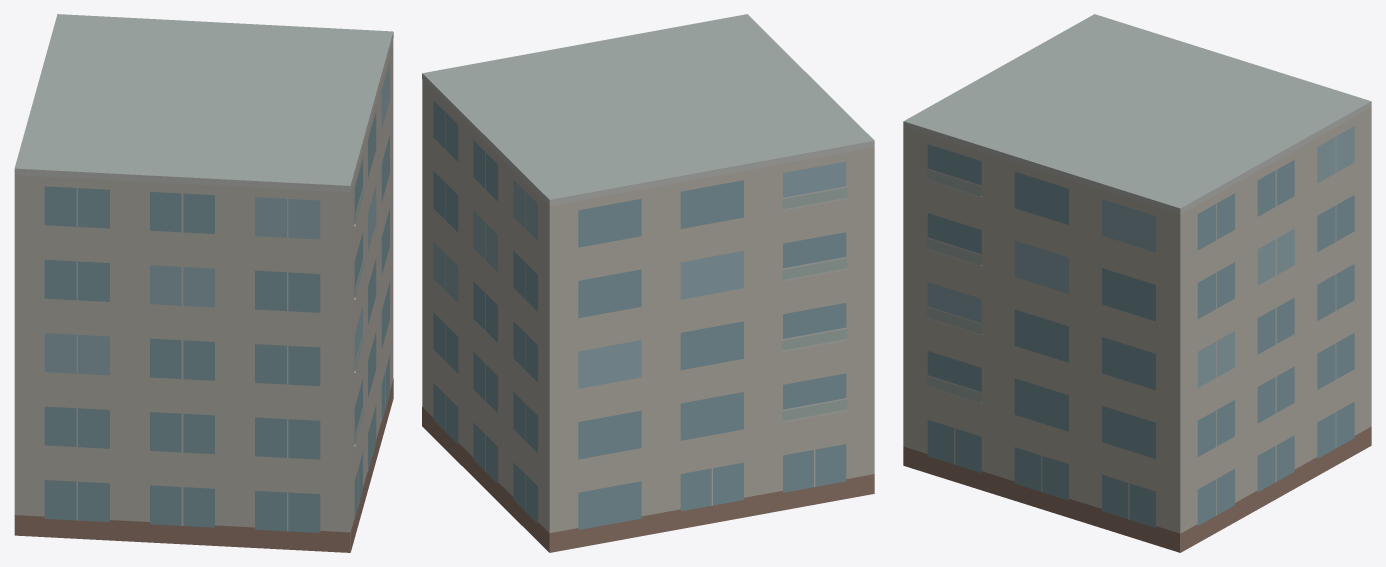
The model's file is survey-upis-32632286.glb.
3 renders of one model, left to right at view 1: azimuth 30°, elevation 25°; view 2: azimuth 150°, elevation 25°; view 3: azimuth 270°, elevation 25°, orthographic. The views are drawn at different scales.
Visible parts, largest first — view 1: survey-upis-32632286.tmp; view 2: survey-upis-32632286.tmp; view 3: survey-upis-32632286.tmp.
Part boxes in pixels (x1=…): survey-upis-32632286.tmp: x1=14, y1=14, x2=393, y2=552; survey-upis-32632286.tmp: x1=422, y1=14, x2=874, y2=552; survey-upis-32632286.tmp: x1=903, y1=14, x2=1371, y2=552.
Bounding box in the file's own units: 16.72 × 13.8 × 17.01.
